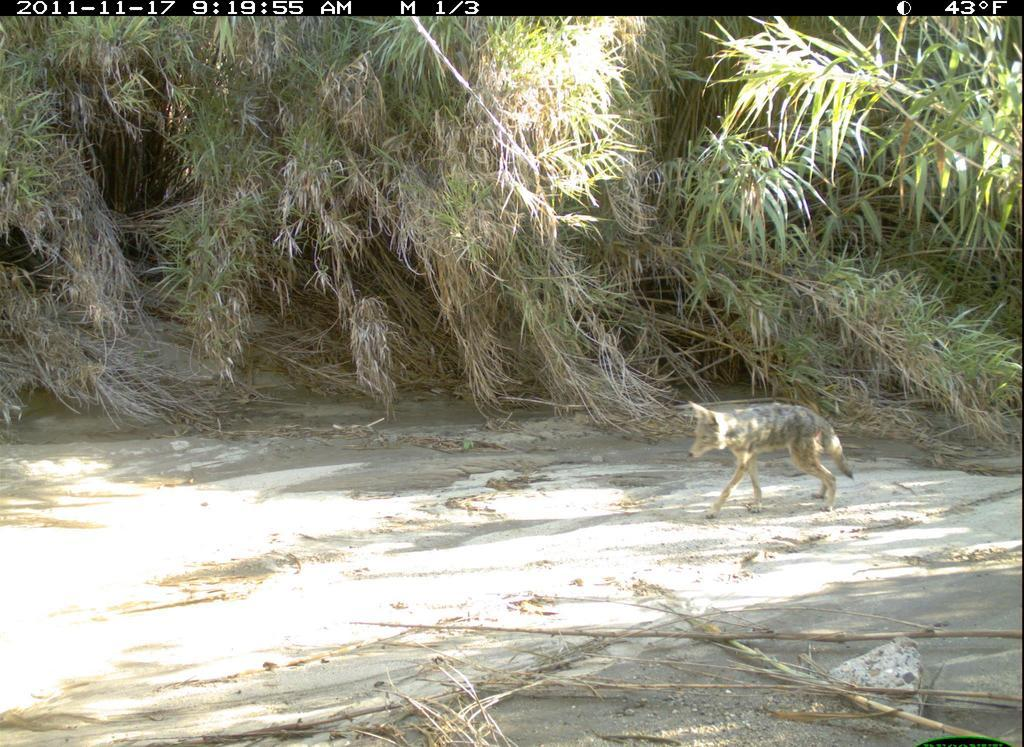coyote: (683, 387, 862, 515)
